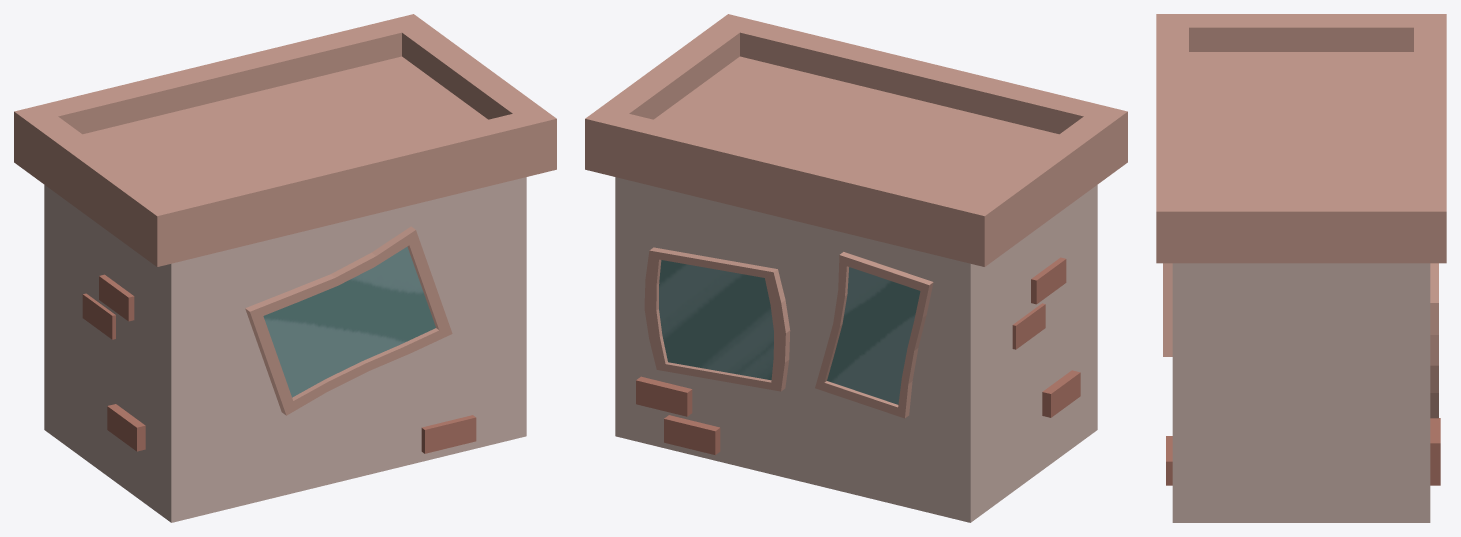
Rendered from SM_DefaultFlat.fbx.
3 renders of one model, left to right at view 1: azimuth 30°, elevation 25°; view 2: azimuth 150°, elevation 25°; view 3: azimuth 270°, elevation 25°, orthographic.
Visible parts, largest first — view 1: bakery.003, brick.028, brick.002, brick.004, brick.003; view 2: bakery.003, brick, brick.001, brick.002, brick.004, brick.003; view 3: bakery.003, brick, brick.028.
Part boxes in pixels (box(x1,y1,x2,y2)): bakery.003: box(14, 14, 556, 522); brick.028: box(421, 415, 476, 453); brick.002: box(107, 404, 145, 451); brick.004: box(99, 274, 134, 321); brick.003: box(82, 293, 115, 339); bakery.003: box(585, 14, 1127, 522); brick: box(636, 376, 692, 416); brick.001: box(664, 415, 720, 454); brick.002: box(1042, 370, 1080, 417); brick.004: box(1031, 257, 1066, 304); brick.003: box(1012, 303, 1045, 349); bakery.003: box(1156, 14, 1446, 522); brick: box(1430, 418, 1440, 467); brick.028: box(1166, 436, 1172, 485).
Bounding box in the file's own units: 413 × 314 × 256.
